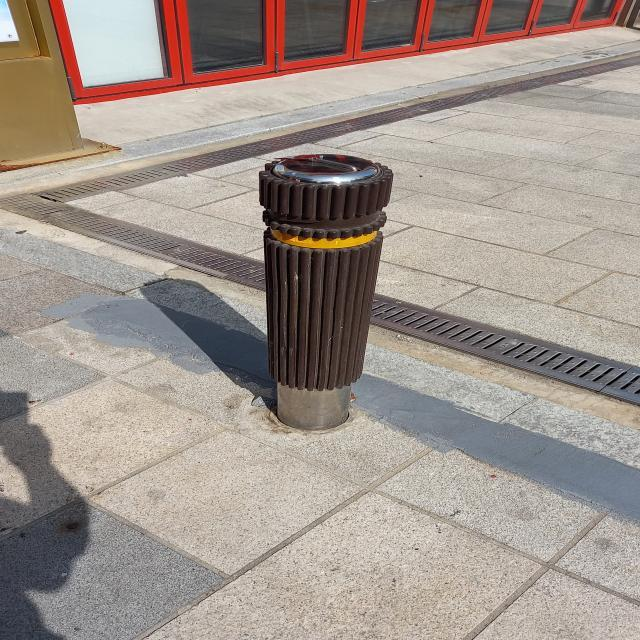pole: (258, 153, 393, 430)
